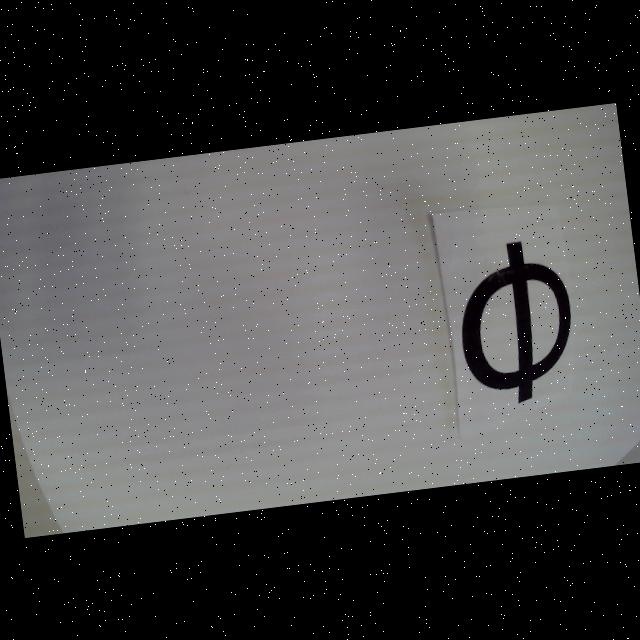PHI: (450, 235, 582, 410)
